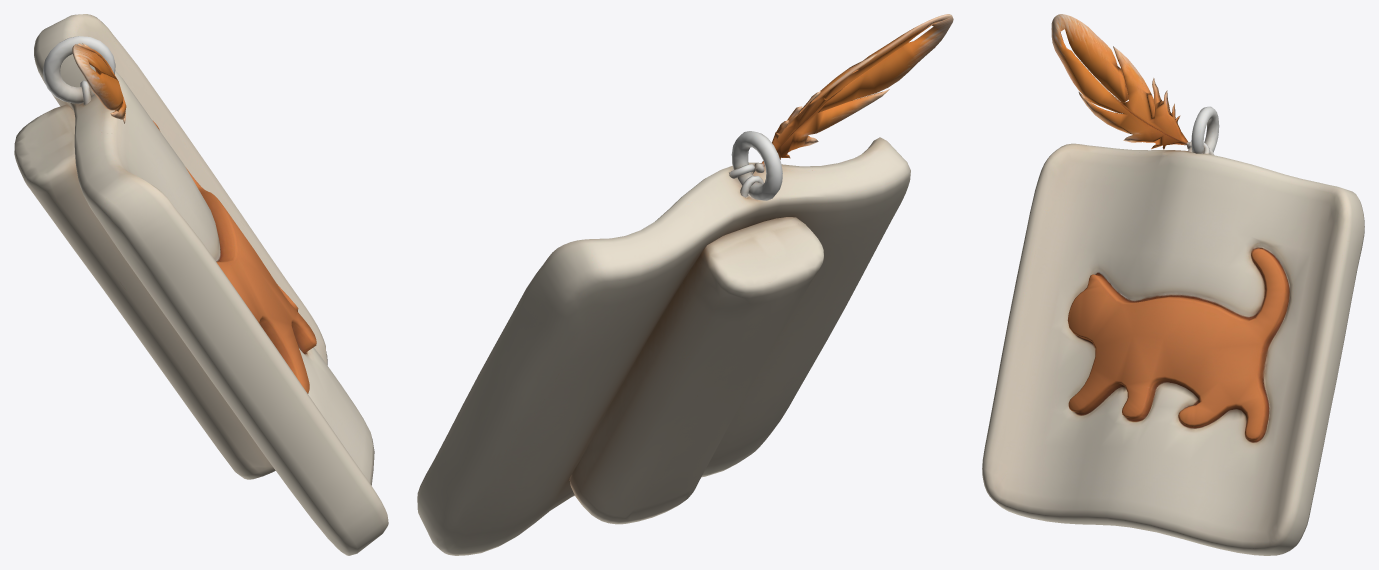
Rendered from roof-feather-token.glb.
3 renders of one model, left to right at view 1: azimuth 30°, elevation 25°; view 2: azimuth 150°, elevation 25°; view 3: azimuth 270°, elevation 25°, orthographic. The views are drawn at different scales.
Visible parts, largest first — view 1: tripo_node_64f1fddd-1f38-4785-b957-addb5907a149; view 2: tripo_node_64f1fddd-1f38-4785-b957-addb5907a149; view 3: tripo_node_64f1fddd-1f38-4785-b957-addb5907a149.
Part boxes in pixels (bbox=[...]): tripo_node_64f1fddd-1f38-4785-b957-addb5907a149: bbox=[14, 14, 388, 555]; tripo_node_64f1fddd-1f38-4785-b957-addb5907a149: bbox=[417, 14, 953, 555]; tripo_node_64f1fddd-1f38-4785-b957-addb5907a149: bbox=[982, 14, 1364, 555].
Bounding box in the file's own units: 0.769 × 0.9995 × 0.8433.
Materials: 1 (1 with a texture image).
